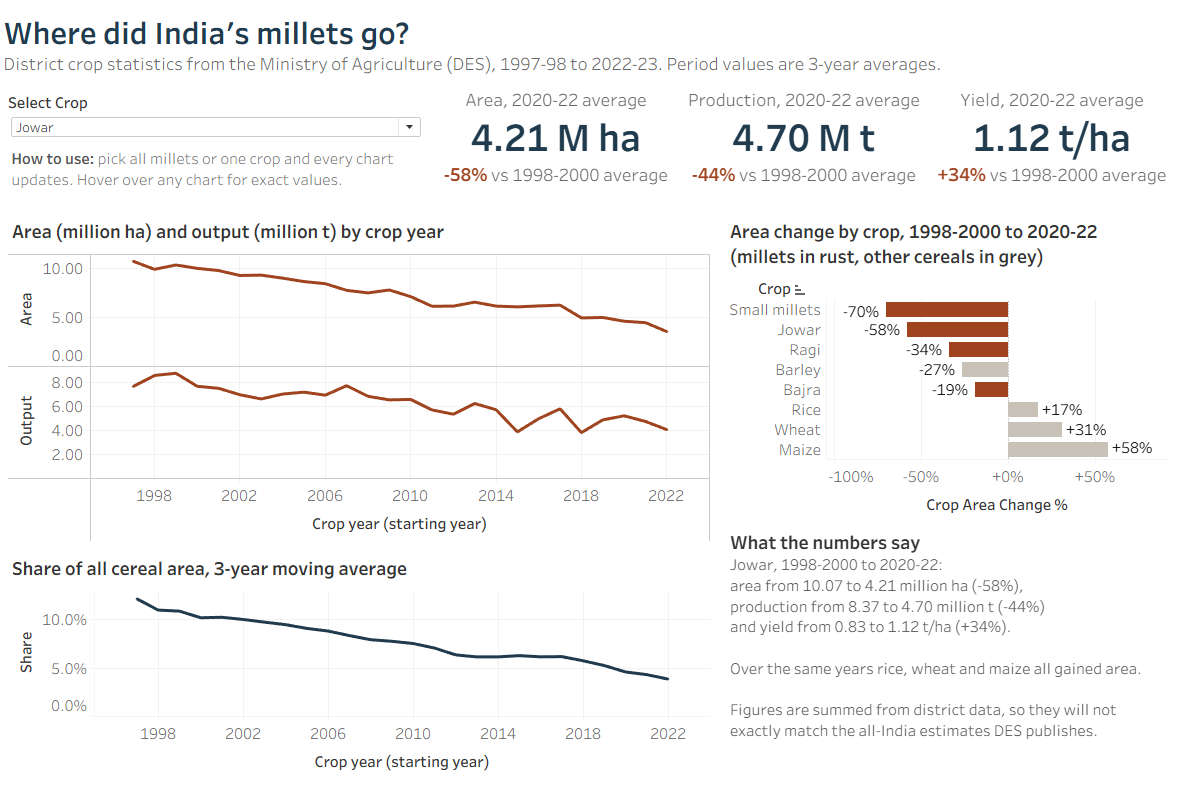

What the dashboard file says about the page in this screenshot:
{"tool":"tableau","page":{"name":"Overview","canvas":[1200,800],"ordinal":0},"visuals":[{"type":"text","box":[0,0,1200,76]},{"type":"parameter","param":"[Parameters].[Select Crop]","box":[0,76,228,56]},{"type":"worksheet","title":"KPI Area","mark":"Text","box":[228,76,324,140]},{"type":"worksheet","title":"KPI Production","mark":"Text","box":[552,76,324,140]},{"type":"worksheet","title":"KPI Yield","mark":"Text","box":[876,76,324,140]},{"type":"text","box":[0,132,228,84]},{"type":"worksheet","title":"Area and Production Trend","mark":"Line","rows":["Sel Area","Sel Prod"],"cols":["year"],"box":[0,216,720,344]},{"type":"worksheet","title":"Area Change by Crop","mark":"Bar","rows":["crop"],"cols":["Crop Change %"],"box":[720,216,480,344]},{"type":"worksheet","title":"Share of Cereal Area","mark":"Line","rows":["Share 3yr Avg"],"cols":["year"],"box":[0,560,720,240]},{"type":"worksheet","title":"Notes","mark":"Text","box":[720,560,480,240]}]}

Visuals, with their boxes in screenshot pixels (x1, y1, x2, y2), scaled from the page's 1200x800 canvas onto the 1188x798 screenshot:
text: box=[0, 0, 1187, 76]
parameter: box=[0, 76, 226, 132]
"KPI Area" worksheet (Text marks): box=[226, 76, 546, 215]
"KPI Production" worksheet (Text marks): box=[546, 76, 867, 215]
"KPI Yield" worksheet (Text marks): box=[867, 76, 1187, 215]
text: box=[0, 132, 226, 215]
"Area and Production Trend" worksheet (Line marks): box=[0, 215, 713, 559]
"Area Change by Crop" worksheet (Bar marks): box=[713, 215, 1187, 559]
"Share of Cereal Area" worksheet (Line marks): box=[0, 559, 713, 797]
"Notes" worksheet (Text marks): box=[713, 559, 1187, 797]
